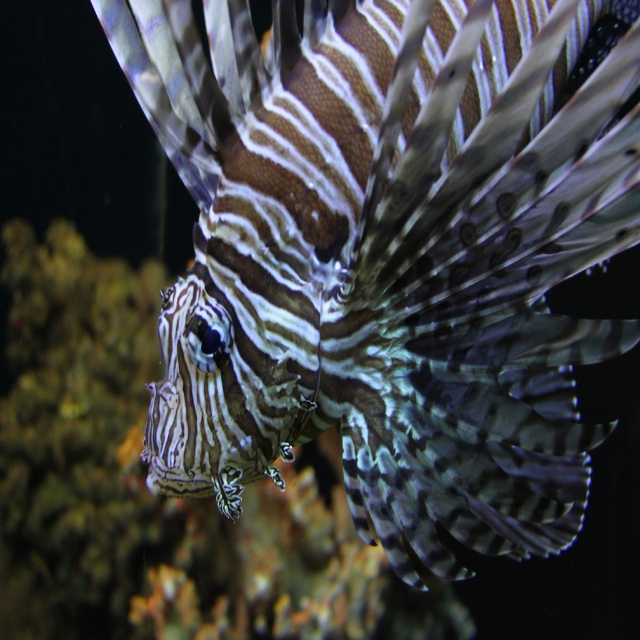Fish: (90, 1, 640, 590)
